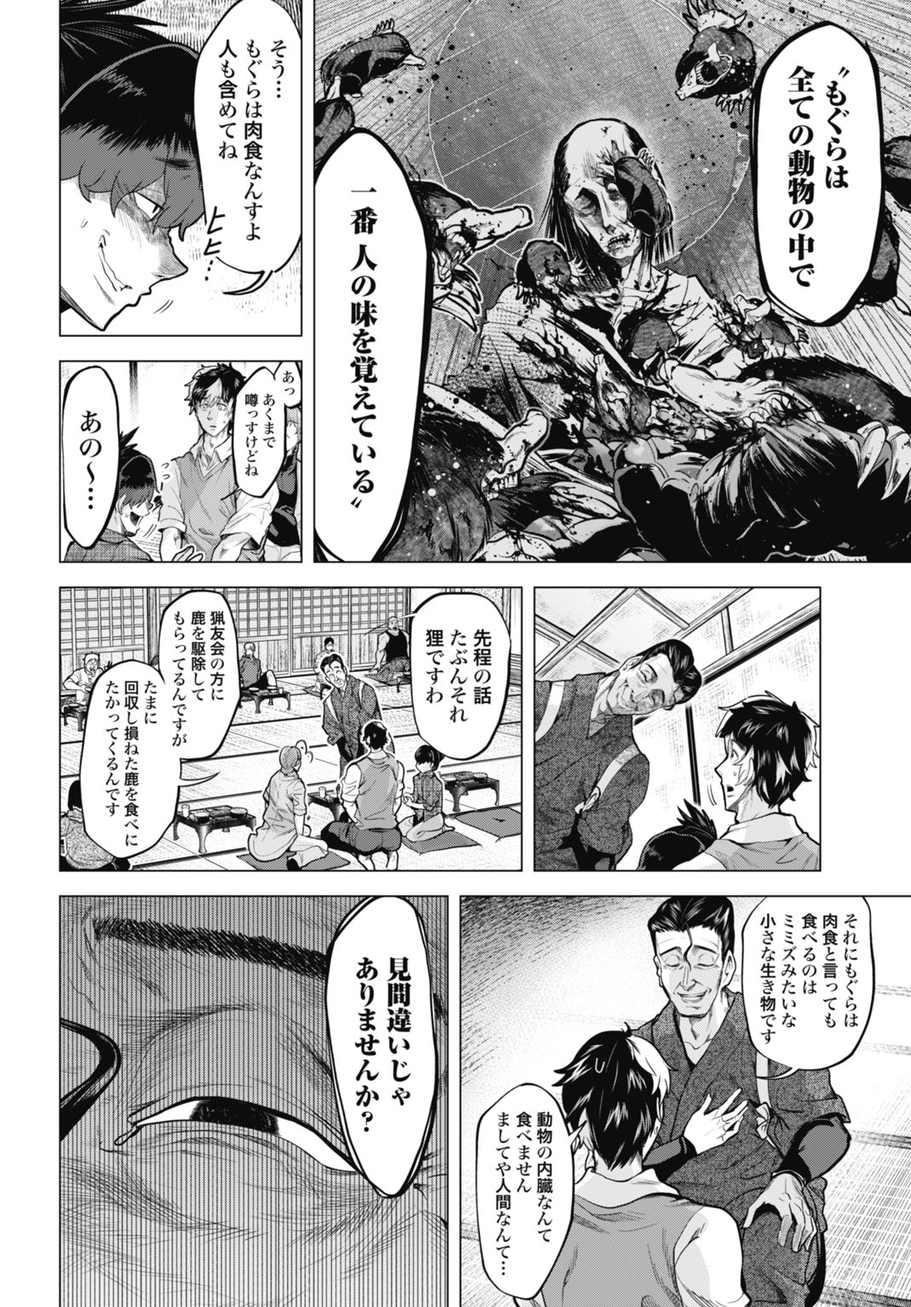bubbles: (315, 123, 438, 562), (739, 11, 895, 336), (77, 587, 243, 862), (313, 898, 443, 1209), (194, 1, 301, 300), (738, 895, 881, 1084), (471, 1078, 589, 1304), (405, 591, 519, 771)
